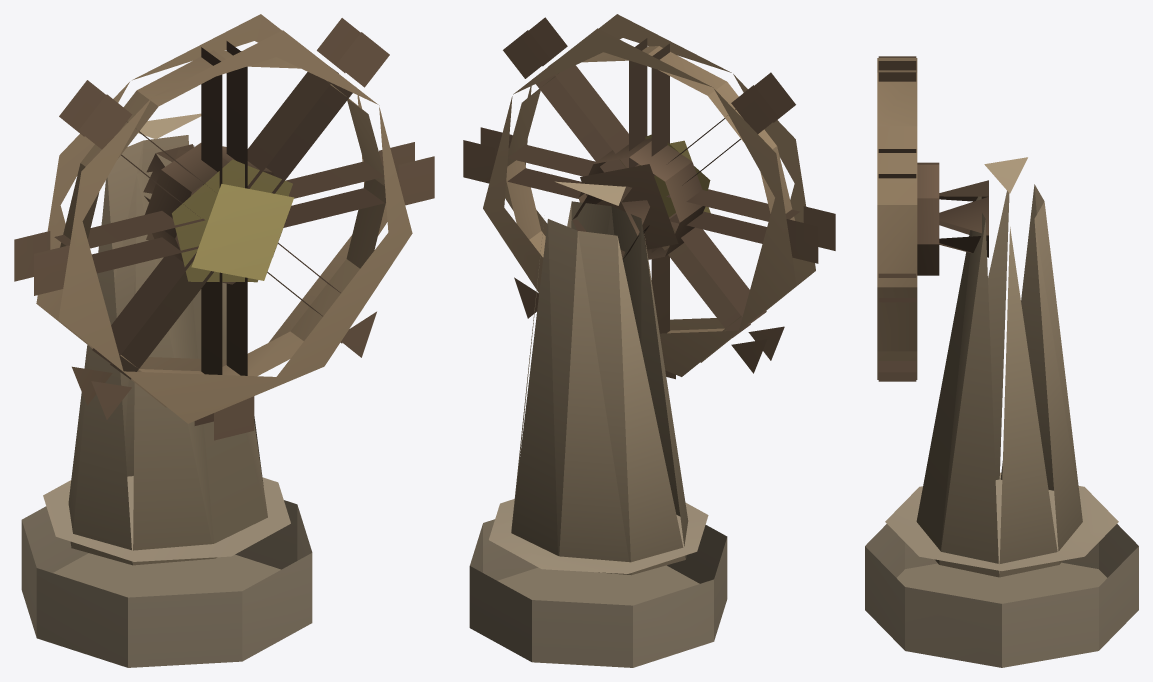
Rendered from wheel.lod.glb.
3 views of the same model, side by side, from view 1: azimuth 30°, elevation 25°; view 2: azimuth 150°, elevation 25°; view 3: azimuth 270°, elevation 25° (orthographic). The views are drawn at different scales.
Visible parts, largest first — view 1: wheel.001; view 2: wheel.001; view 3: wheel.001.
Part boxes in pixels (x1=…): wheel.001: x1=14, y1=14, x2=434, y2=667; wheel.001: x1=463, y1=14, x2=835, y2=667; wheel.001: x1=865, y1=56, x2=1138, y2=667.
Bounding box in the file's own units: 0.756 × 1.11 × 0.4938.
